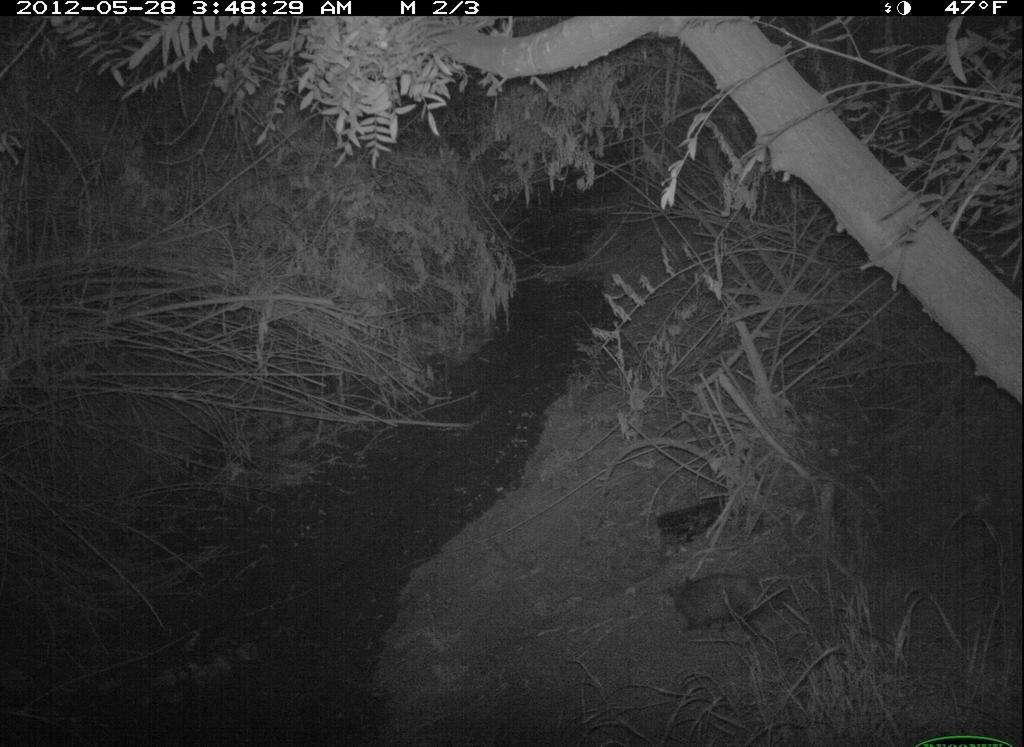opossum: (664, 574, 789, 637)
